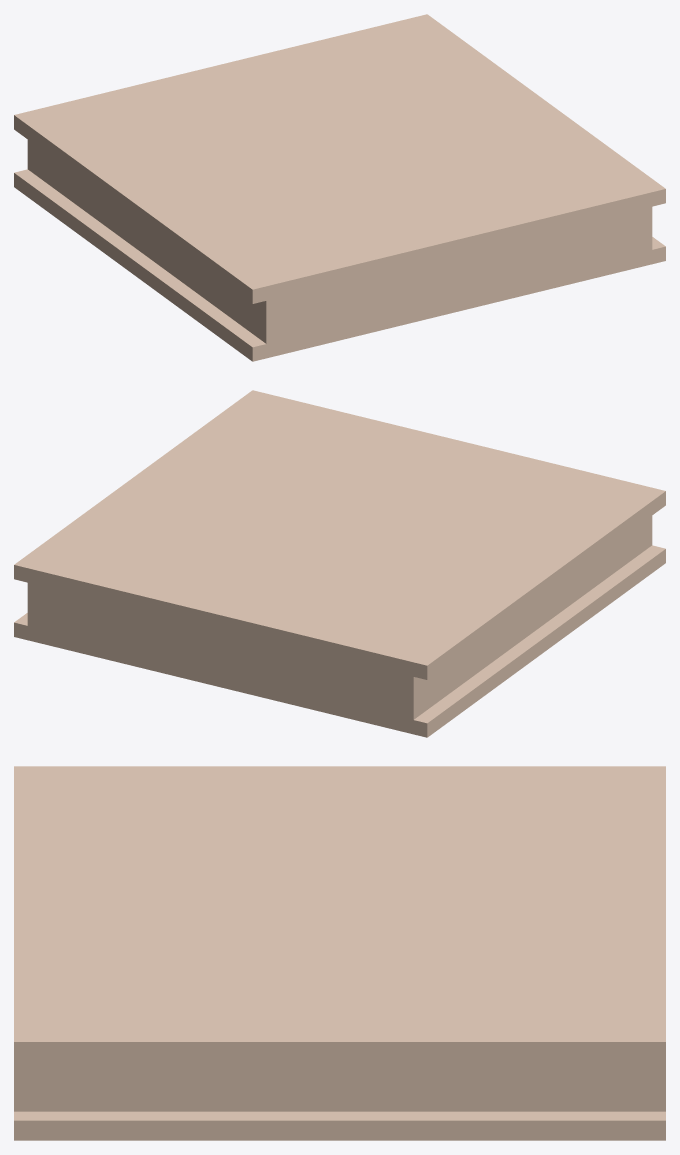
The model's file is greek_roof_support_1_square.fbx.
3 views of the same model, one above another, from view 1: azimuth 30°, elevation 25°; view 2: azimuth 150°, elevation 25°; view 3: azimuth 270°, elevation 25° (orthographic). The views are drawn at different scales.
Parts seen in each view (by area): view 1: Cube.017; view 2: Cube.017; view 3: Cube.017.
Boxes of the visible parts, box(x1,y1,x2,y2) form: Cube.017: box(14, 14, 665, 361); Cube.017: box(14, 390, 665, 737); Cube.017: box(14, 766, 665, 1140).
Bounding box in the file's own units: 1200 × 200 × 1200.
